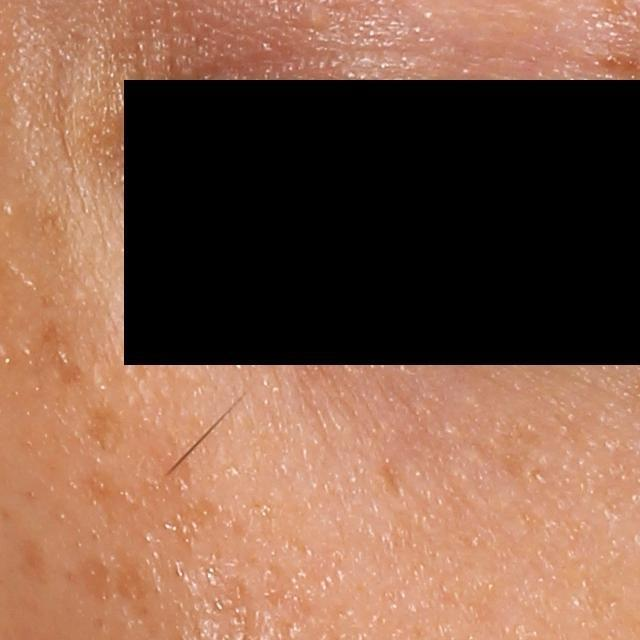melasma: (29, 320, 89, 386), (115, 547, 161, 600), (87, 400, 125, 452)
